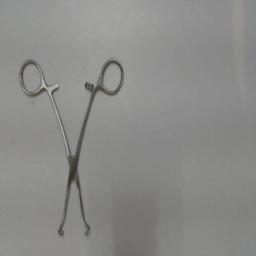Babcock Tissue Forceps: (17, 57, 127, 241)
